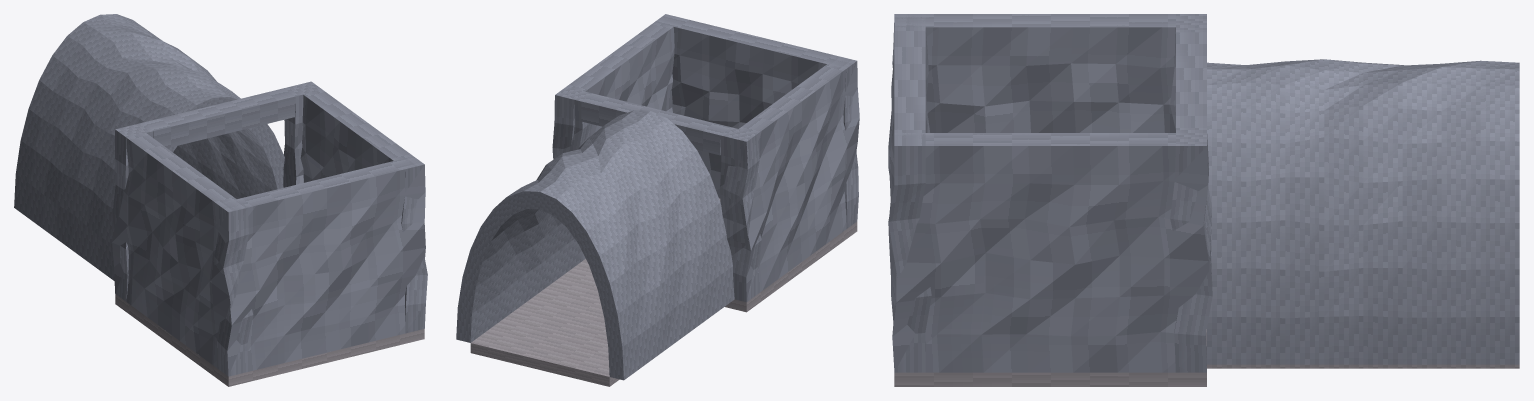
Rendered from cave-and-crystal-networks-tunnel-to-shaft-5d67febf.glb.
3 renders of one model, left to right at view 1: azimuth 30°, elevation 25°; view 2: azimuth 150°, elevation 25°; view 3: azimuth 270°, elevation 25°, orthographic. The views are drawn at different scales.
Visible parts, largest first — view 1: tunnel-to-shaft; view 2: tunnel-to-shaft; view 3: tunnel-to-shaft.
Part boxes in pixels (x1,y1,x2,y2): tunnel-to-shaft: [14, 14, 427, 386]; tunnel-to-shaft: [456, 14, 859, 386]; tunnel-to-shaft: [888, 14, 1519, 386].
Bounding box in the file's own units: 4.16 × 3.61 × 8.08.
2 materials, 2 textured.
